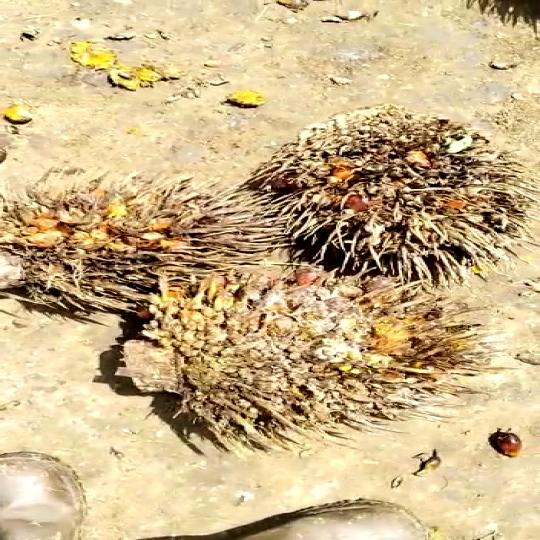terlalu masak: (108, 257, 478, 434), (248, 100, 525, 285), (0, 174, 292, 302)
